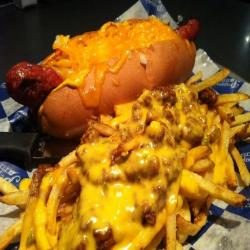fries: (37, 79, 247, 250)
hotdog: (6, 11, 228, 131)
